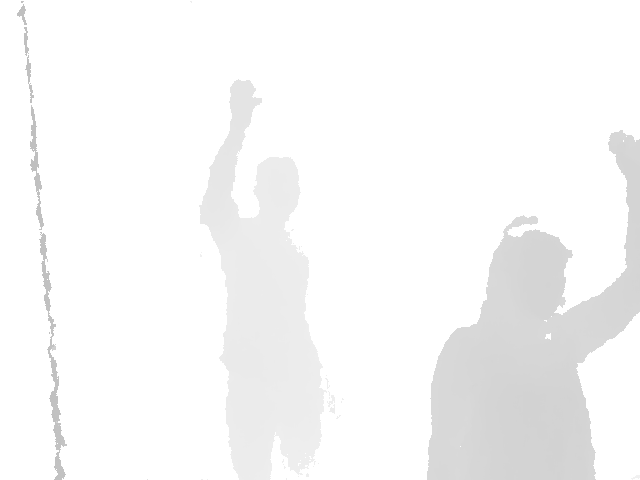hand: (229, 79, 262, 129), (607, 129, 640, 177)
head: (478, 214, 575, 335), (253, 156, 301, 222)
person: (424, 129, 640, 480), (196, 79, 326, 479)
